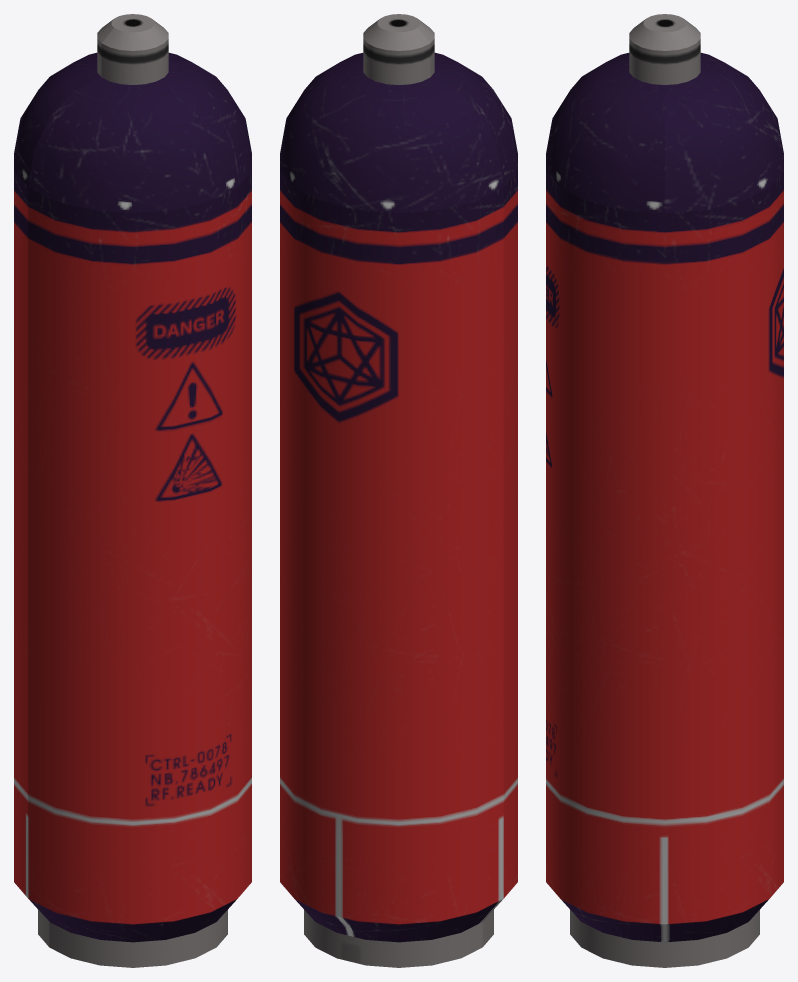
The model's file is FUT0410022.fbx.
3 views of the same model, side by side, from view 1: azimuth 30°, elevation 25°; view 2: azimuth 150°, elevation 25°; view 3: azimuth 270°, elevation 25° (orthographic).
Visible parts, largest first — view 1: smFUT0410022; view 2: smFUT0410022; view 3: smFUT0410022.
Part boxes in pixels (box(x1,y1,x2,y2)): smFUT0410022: box(14, 14, 251, 967); smFUT0410022: box(280, 14, 517, 967); smFUT0410022: box(546, 14, 783, 967).
Bounding box in the file's own units: 52.22 × 216 × 51.42.
1 material, 1 textured.
